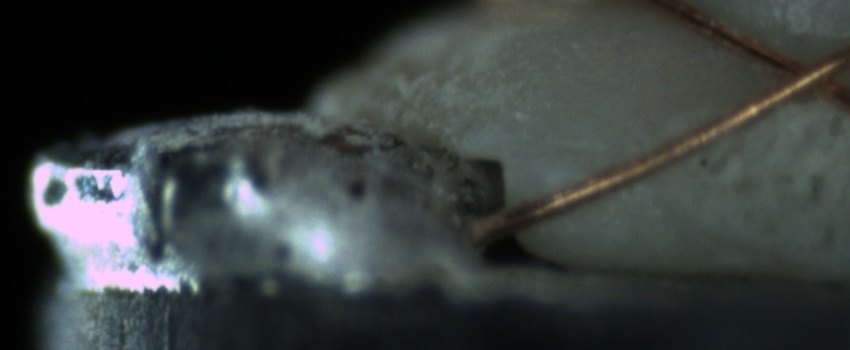CL: (749, 39, 845, 110)
